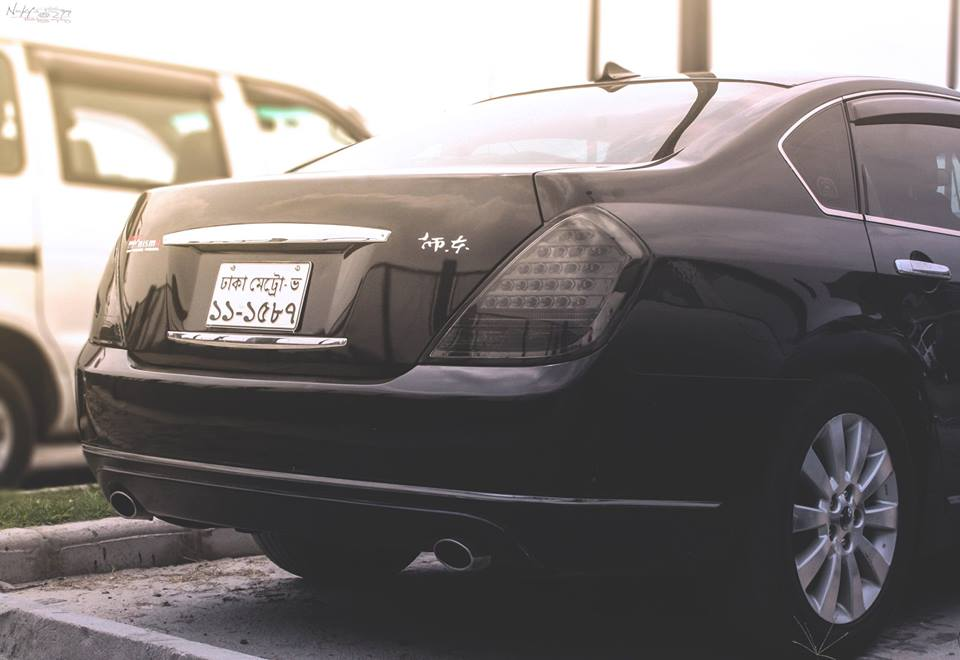registration_plate: (204, 261, 313, 333)
